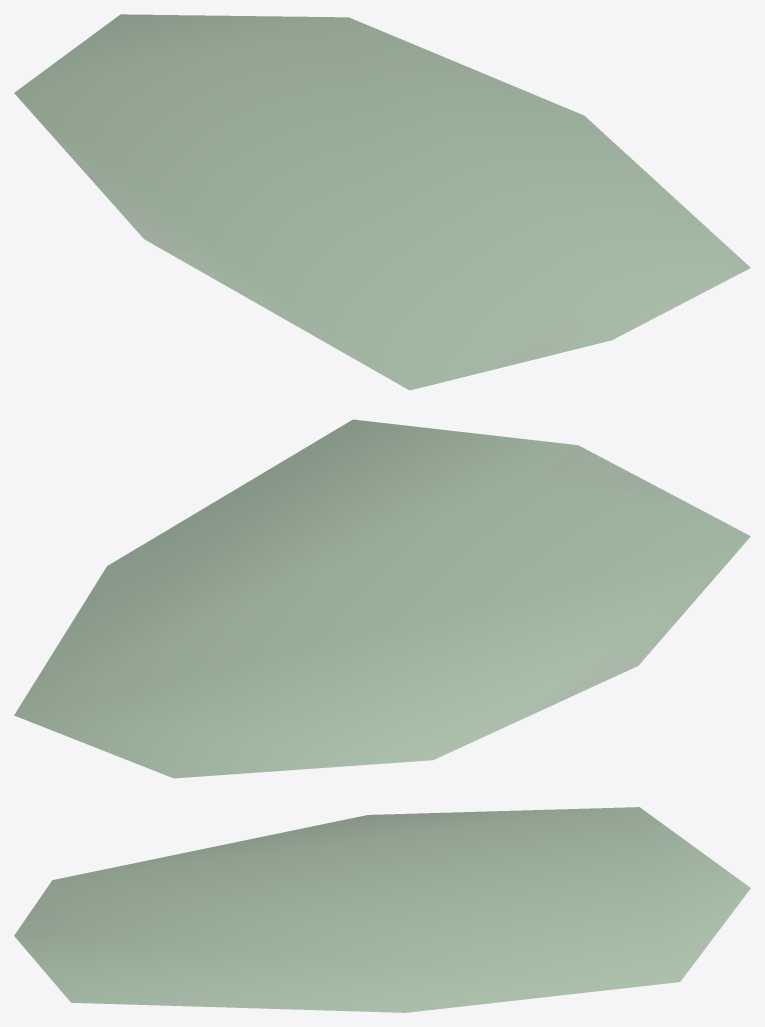
Rendered from TROLLHOLE02_HOLECAP73.fbx.
The picture shows the model from 3 angles, top to bottom: view 1: azimuth 30°, elevation 25°; view 2: azimuth 150°, elevation 25°; view 3: azimuth 270°, elevation 25°; orthographic projection. The views are drawn at different scales.
Visible parts, largest first — view 1: TROLLHOLE02_HOLECAP73; view 2: TROLLHOLE02_HOLECAP73; view 3: TROLLHOLE02_HOLECAP73.
Boxes of the visible parts, box(x1,y1,x2,y2) form: TROLLHOLE02_HOLECAP73: box(14, 14, 750, 390); TROLLHOLE02_HOLECAP73: box(14, 419, 750, 778); TROLLHOLE02_HOLECAP73: box(14, 807, 750, 1012).
Bounding box in the file's own units: 15549 × 1913 × 25057.
1 material, 1 textured.
